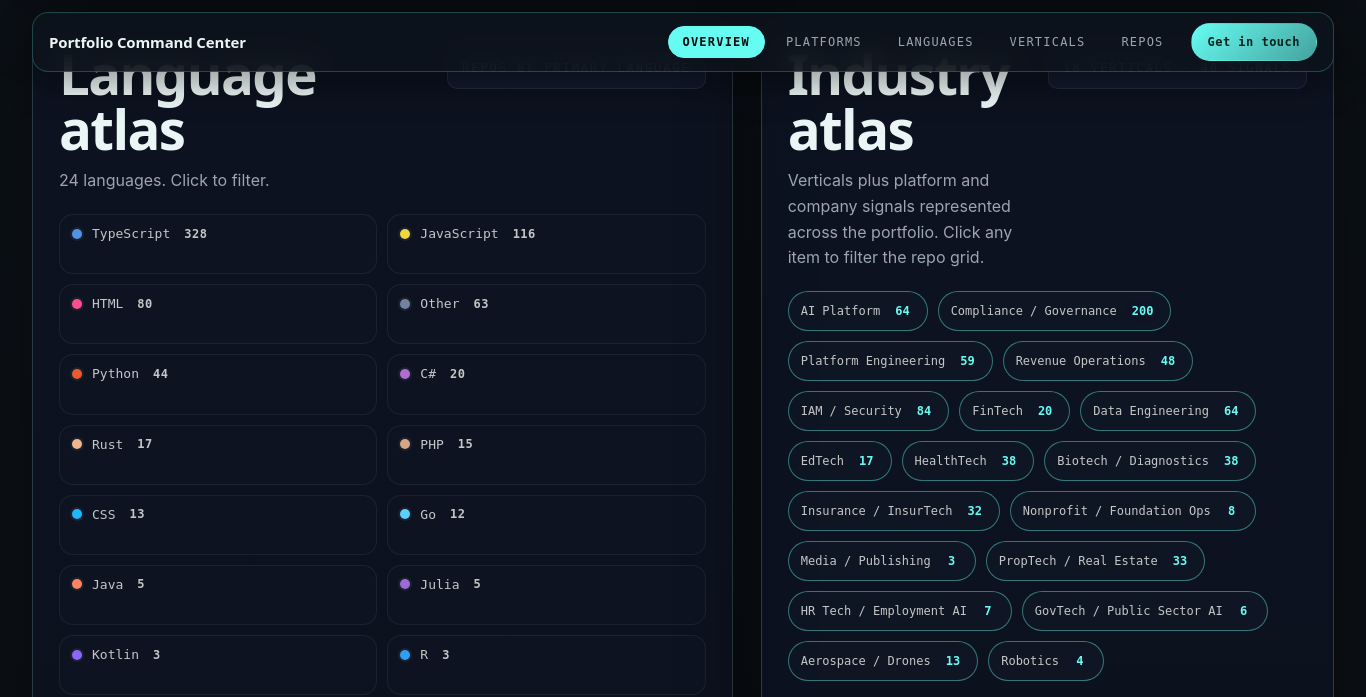
App › language atlas counts resolve against the same repo catalog as the grid
The image size is (1366, 697).
(page scrolled)
Click the button "Python 44" at point(115, 374), box [59, 354, 377, 414]
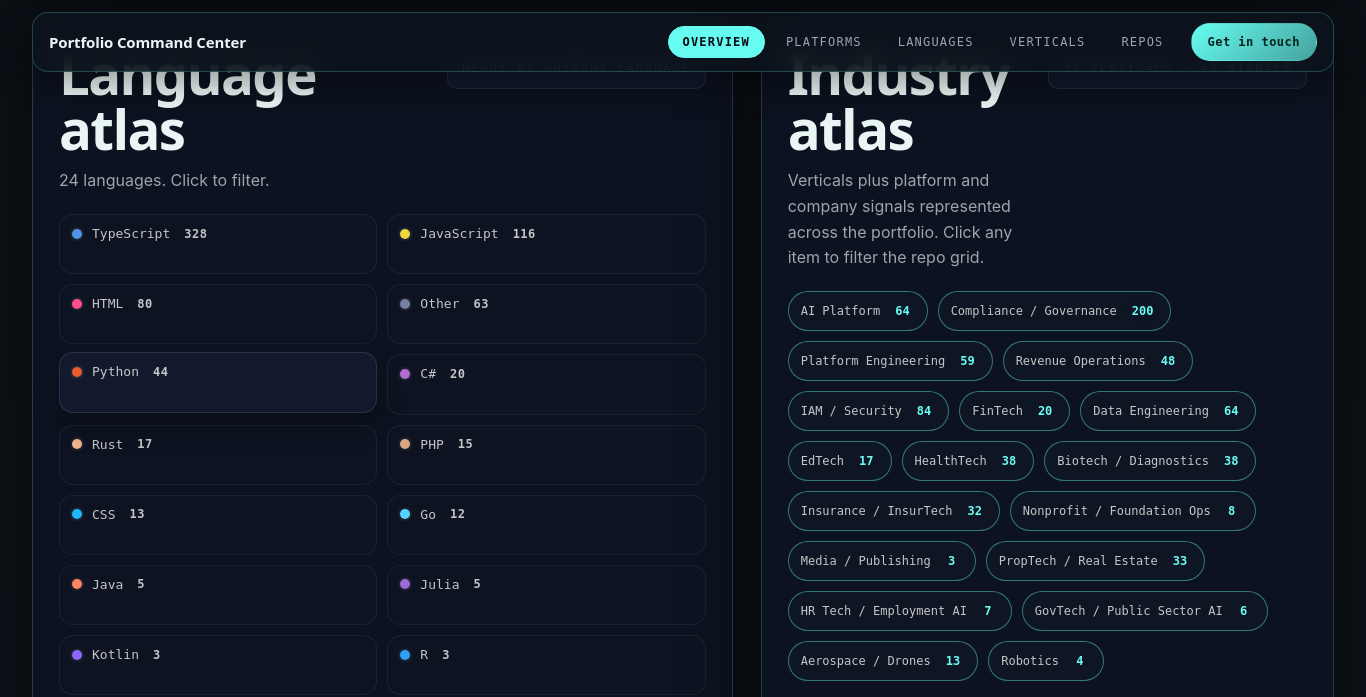
Click the button "Python 44" at point(115, 372), box [59, 352, 377, 412]
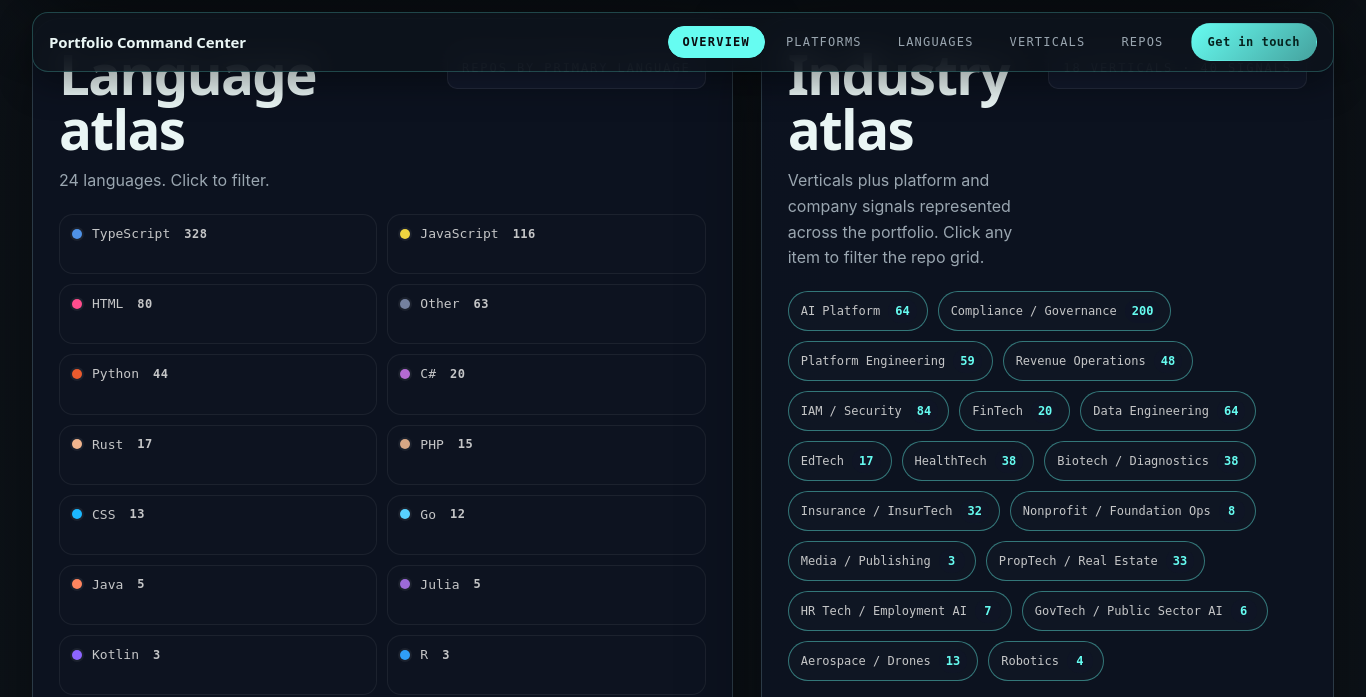
Click the button "PHP 15" at point(405, 444), box [387, 424, 706, 485]
(page scrolled)
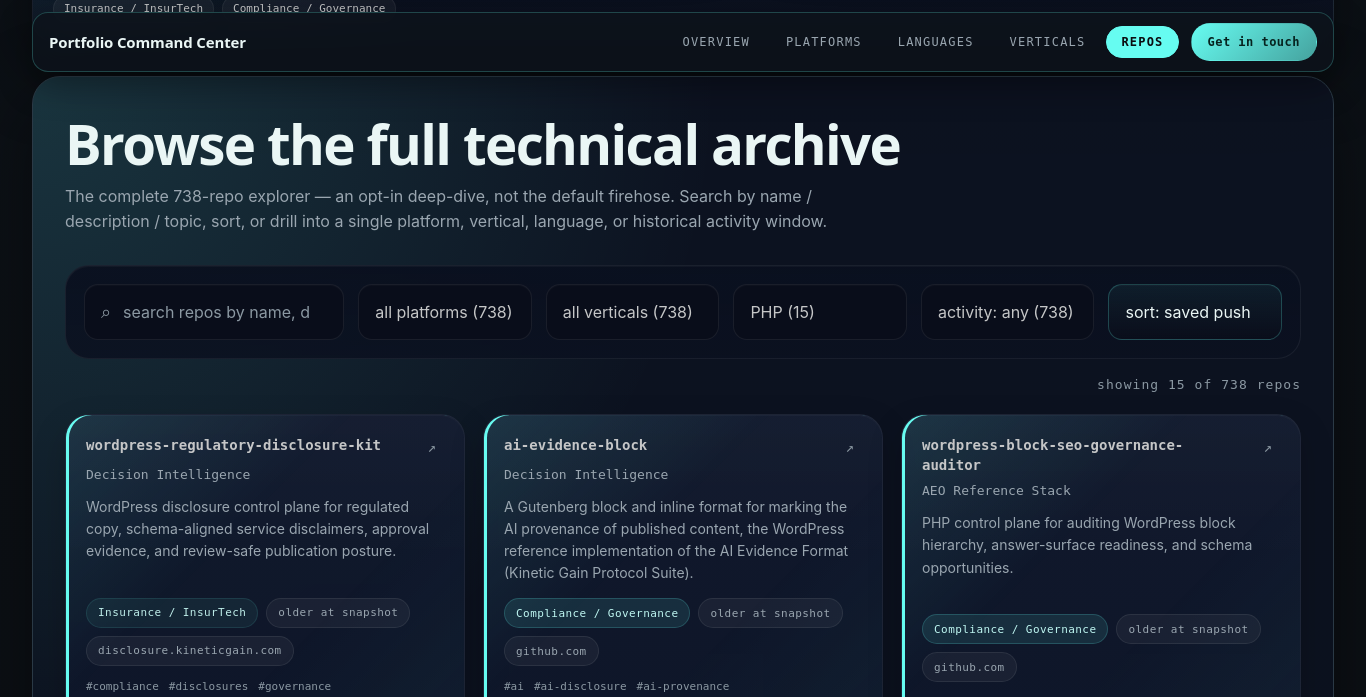
Expected: the dropdown showing "Filter by language" is shown, [733, 284, 907, 340]
